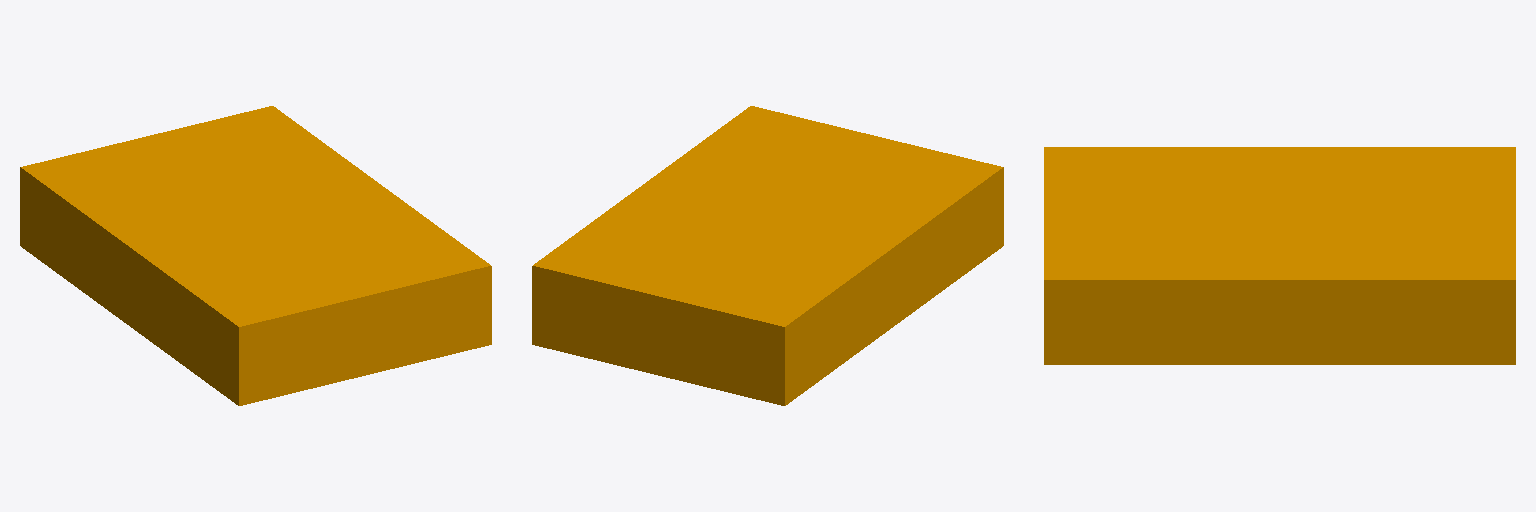
The robot description file, URDF, robot "VersionABogey":
<robot
  name="VersionABogey">
  <link name="base_link">
        <visual>
          <geometry>
            <box size=" .4   .6 .12"/>
          </geometry>
        </visual>
    </link>
     <joint name="base_to_right_leg" type="fixed">
        <parent link="base_link"/>
        <child link="ABogey"/>
    </joint>
  <link
    name="ABogey">
    <inertial>
      <origin
        xyz="0.161968718328757 0.0985618170826614 0.0295453829333476"
        rpy="0 0 0" />
      <mass
        value="2.00973448771197" />
      <inertia
        ixx="0.0239309211910169"
        ixy="0.00609819224773316"
        ixz="0.000127962603563336"
        iyy="0.166040603913833"
        iyz="-0.000188368584338798"
        izz="0.186754785591779" />
    </inertial>
    <visual>
      <origin
        xyz="0 0 0"
        rpy="0 0 0" />
      <geometry>
        <mesh
          filename="package://VersionABogey/meshes/ABogey.STL" />
      </geometry>
      <material
        name="">
        <color
          rgba="1 0.949019607843137 0.909803921568627 1" />
      </material>
    </visual>
    <collision>
      <origin
        xyz="0 0 0"
        rpy="0 0 0" />
      <geometry>
        <mesh
          filename="package://VersionABogey/meshes/ABogey.STL" />
      </geometry>
    </collision>
  </link>
</robot>

--- Facts derived from the render (not from the file) ---
3 views of the same robot in one strip: view 1: azimuth 30°, elevation 25°; view 2: azimuth 150°, elevation 25°; view 3: azimuth 270°, elevation 25° (orthographic).
Model VersionABogey with 2 links and 1 joints (1 fixed), rooted at base_link, posed all joints at 0.
Links seen in each view (by area): view 1: base_link; view 2: base_link; view 3: base_link.
Boxes of the visible links, bbox=[...] form: base_link: bbox=[20, 106, 491, 405]; base_link: bbox=[532, 106, 1003, 405]; base_link: bbox=[1044, 147, 1515, 364].
Bounding box of the posed robot: 0.4 × 0.6 × 0.12 m (x, y, z).
0 mesh visuals loaded from 1 distinct referenced files (none loaded); not drawn: 1 (reference not matched to a file when rendering).
